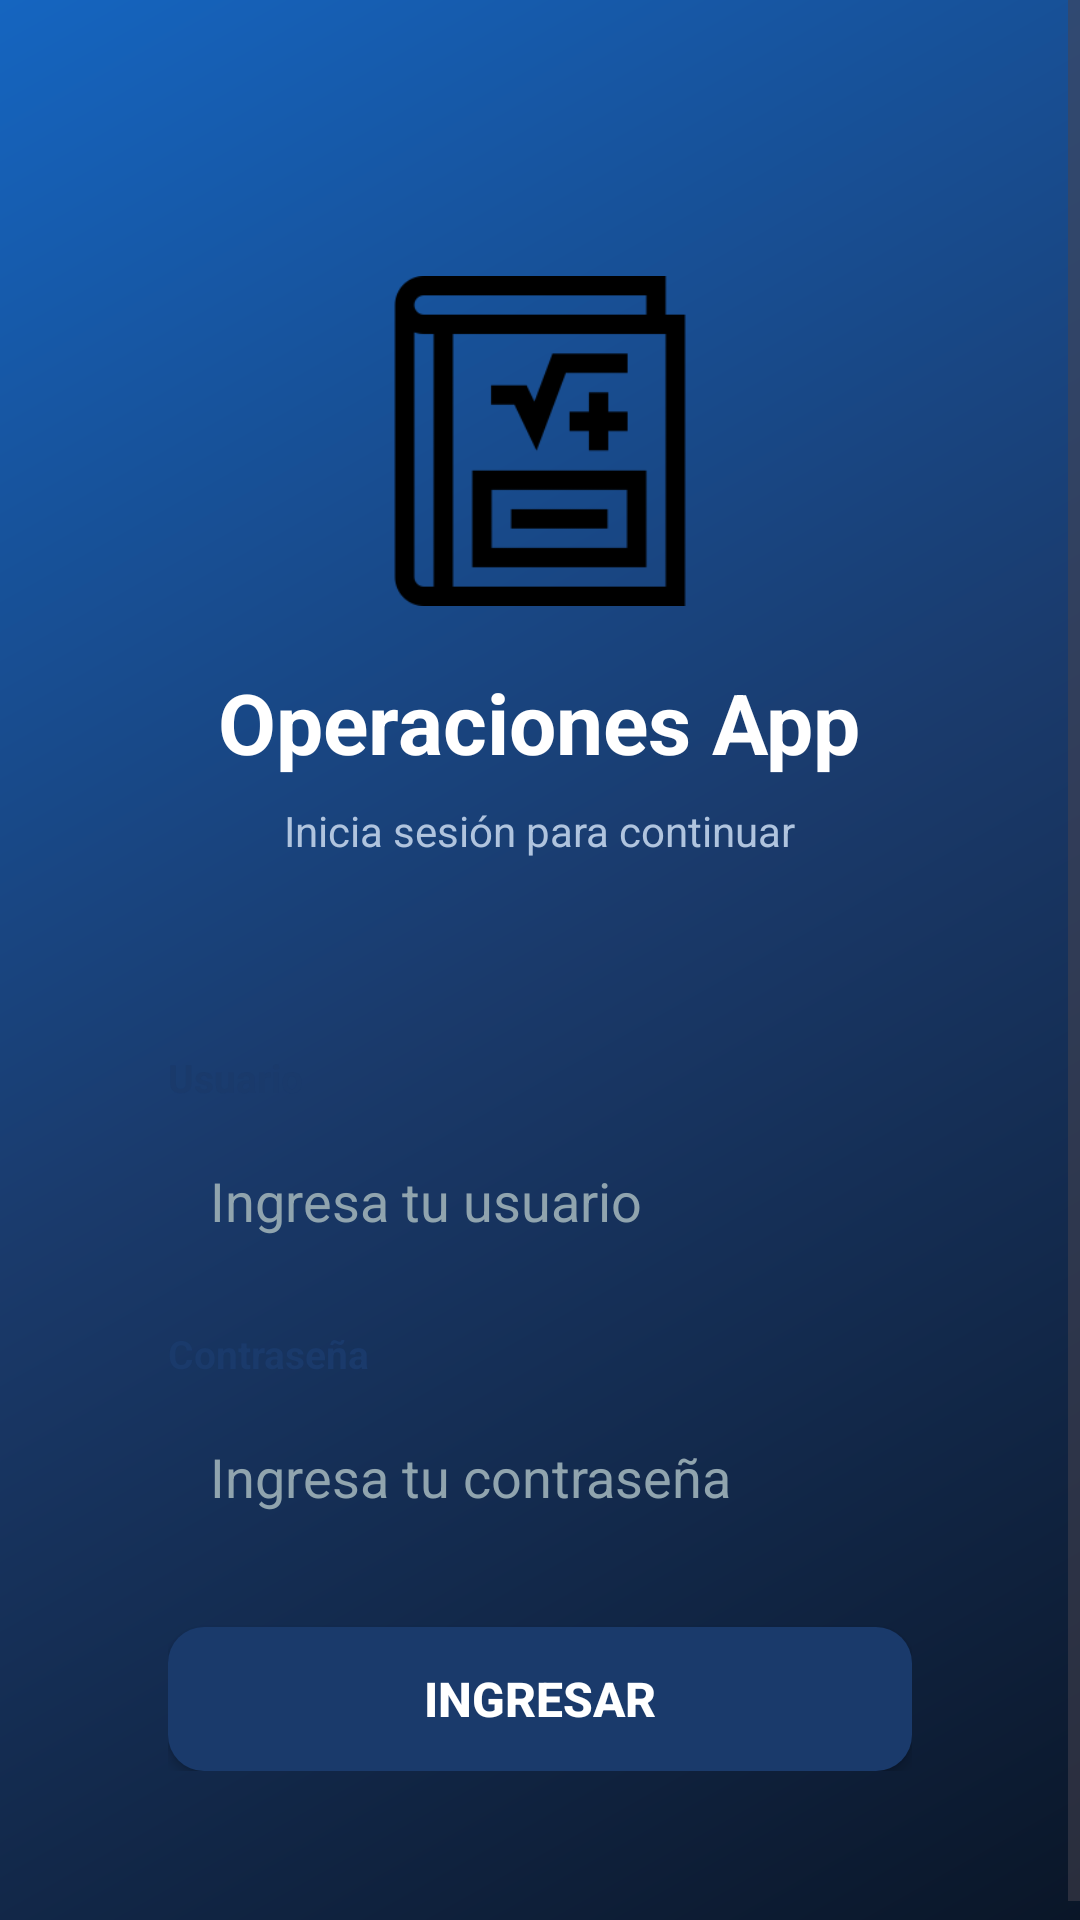

Named icons in this screenshot (1080px×1920px) and their bounding boxes, [left=x1, top=y1, right=x2, bottom=y2]:
matematica: [left=394, top=276, right=705, bottom=606]
